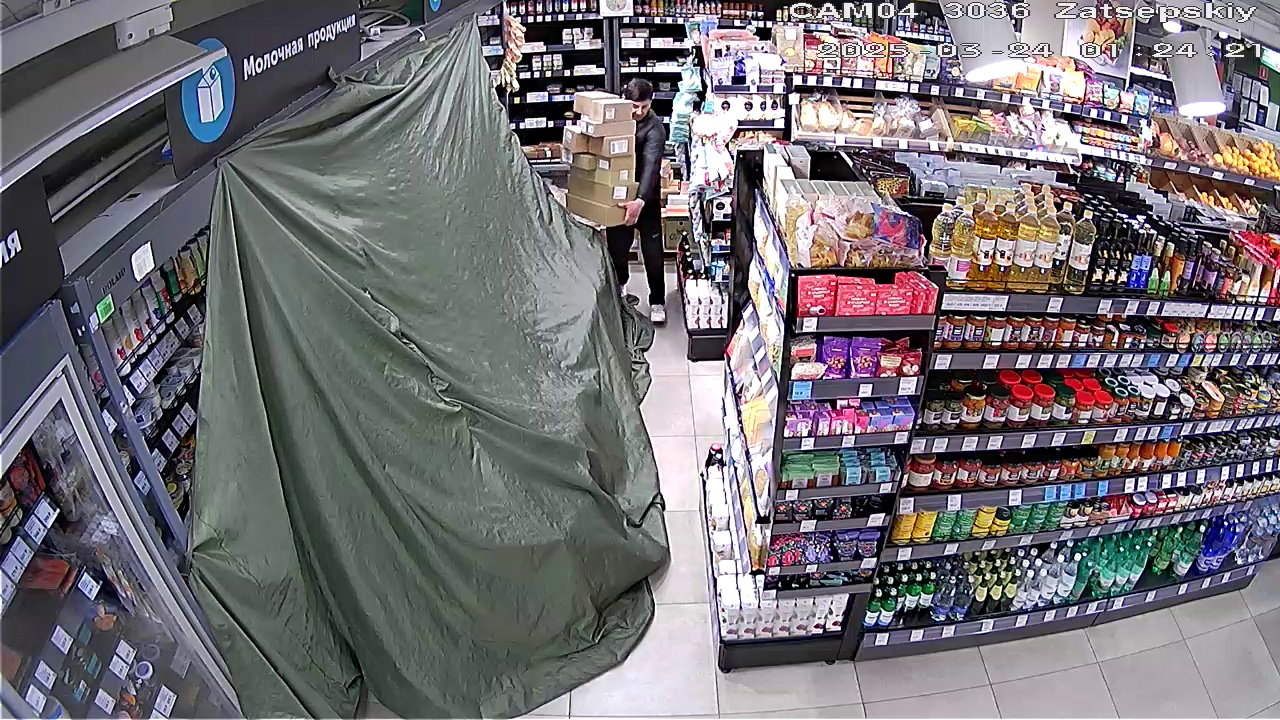Human: (610, 71, 677, 325)
dome: (201, 87, 664, 713)
